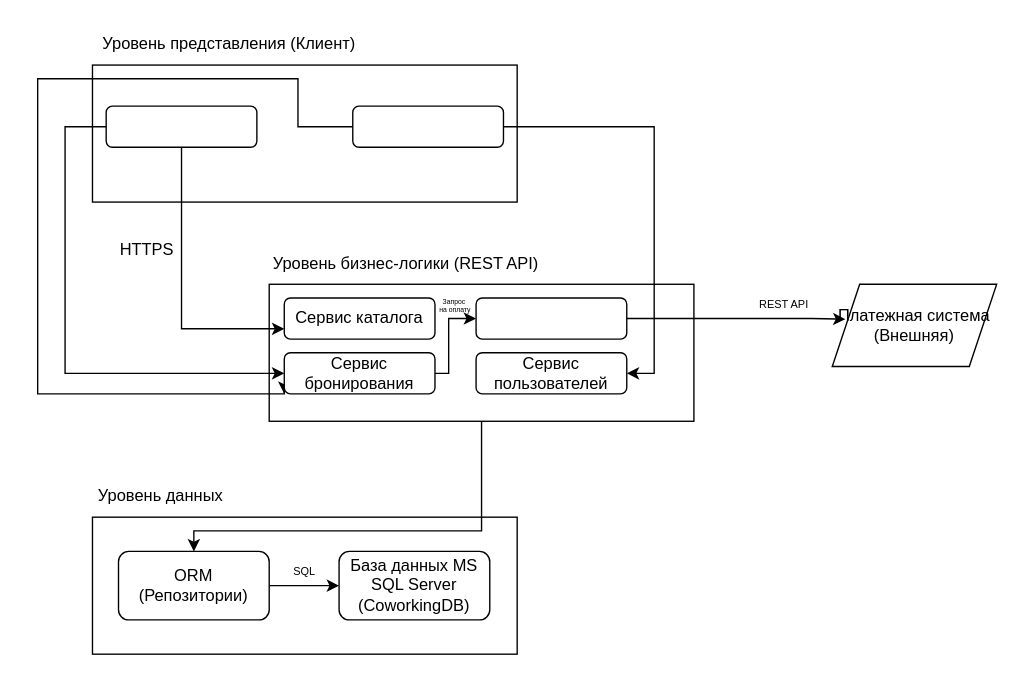
Some shapes in this 1021 by 678 pixel diagram are drawn without their labels. The shapes that lost their labels are listed below. From the top down, each one's box as (x1, y1, x2, y2) in pixels, then its label:
(105, 105, 257, 147): Веб-браузер клиента
(351, 105, 503, 147): Панель администратора
(475, 297, 627, 339): Сервис платежей
